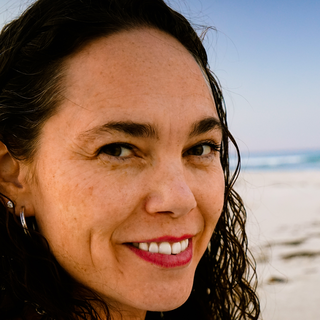eye: (88, 138, 143, 165), (178, 138, 222, 163)
